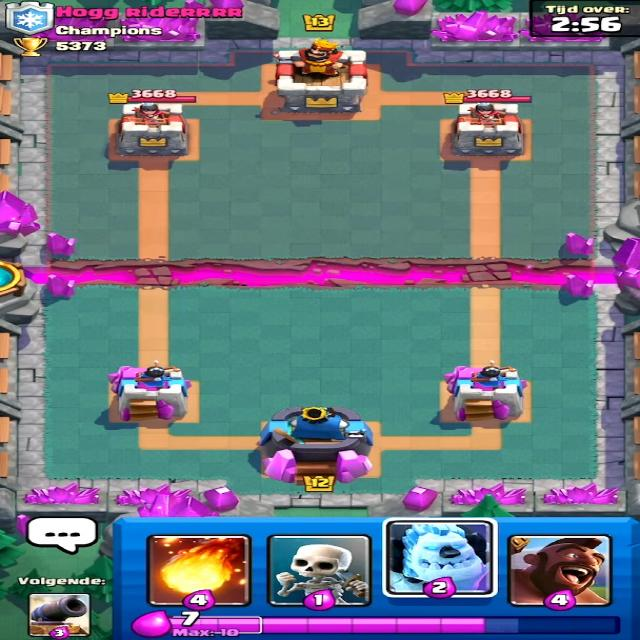Fireball_Card: (145, 535, 253, 606)
Hog_Rider_Card: (512, 537, 611, 604)
Ice_Golem_Card: (384, 519, 496, 597)
Skeleton_Card: (273, 535, 370, 606)
